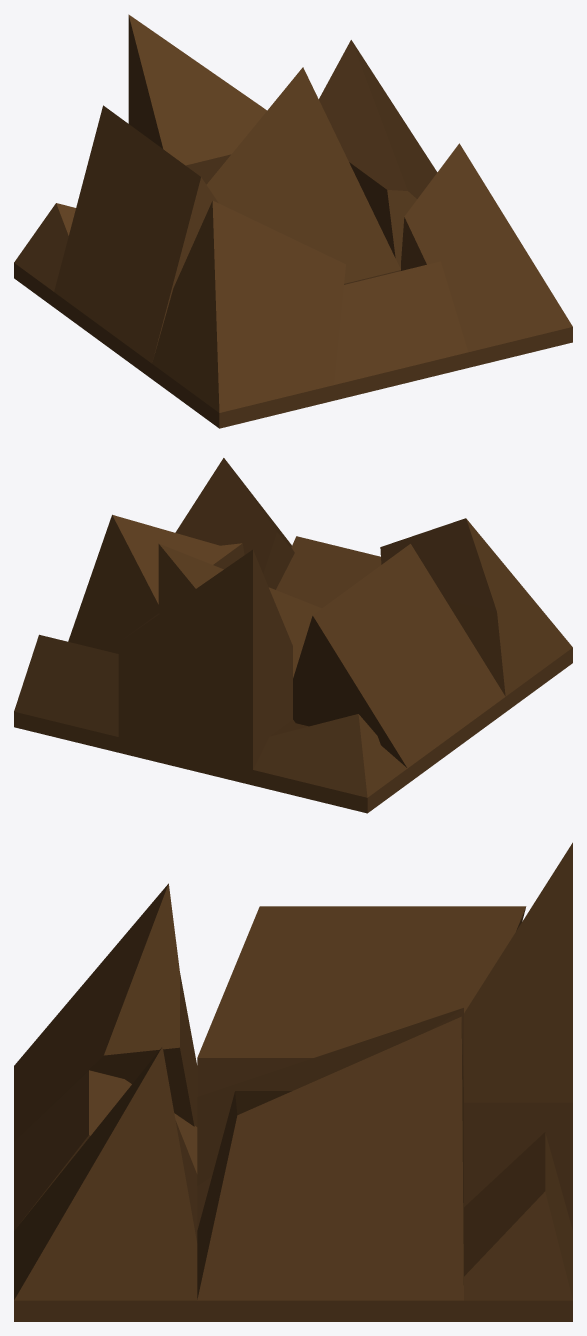
File: Plataforma3.fbx
The picture shows the model from 3 angles, top to bottom: view 1: azimuth 30°, elevation 25°; view 2: azimuth 150°, elevation 25°; view 3: azimuth 270°, elevation 25°; orthographic projection. The views are drawn at different scales.
Parts seen in each view (by area): view 1: Cube.003; view 2: Cube.003; view 3: Cube.003.
Part boxes in pixels (<box>): Cube.003: <box>14,14,572,428</box>; Cube.003: <box>14,458,572,813</box>; Cube.003: <box>14,842,572,1321</box>.
Bounding box in the file's own units: 988 × 631 × 995.
1 material, 1 textured.
